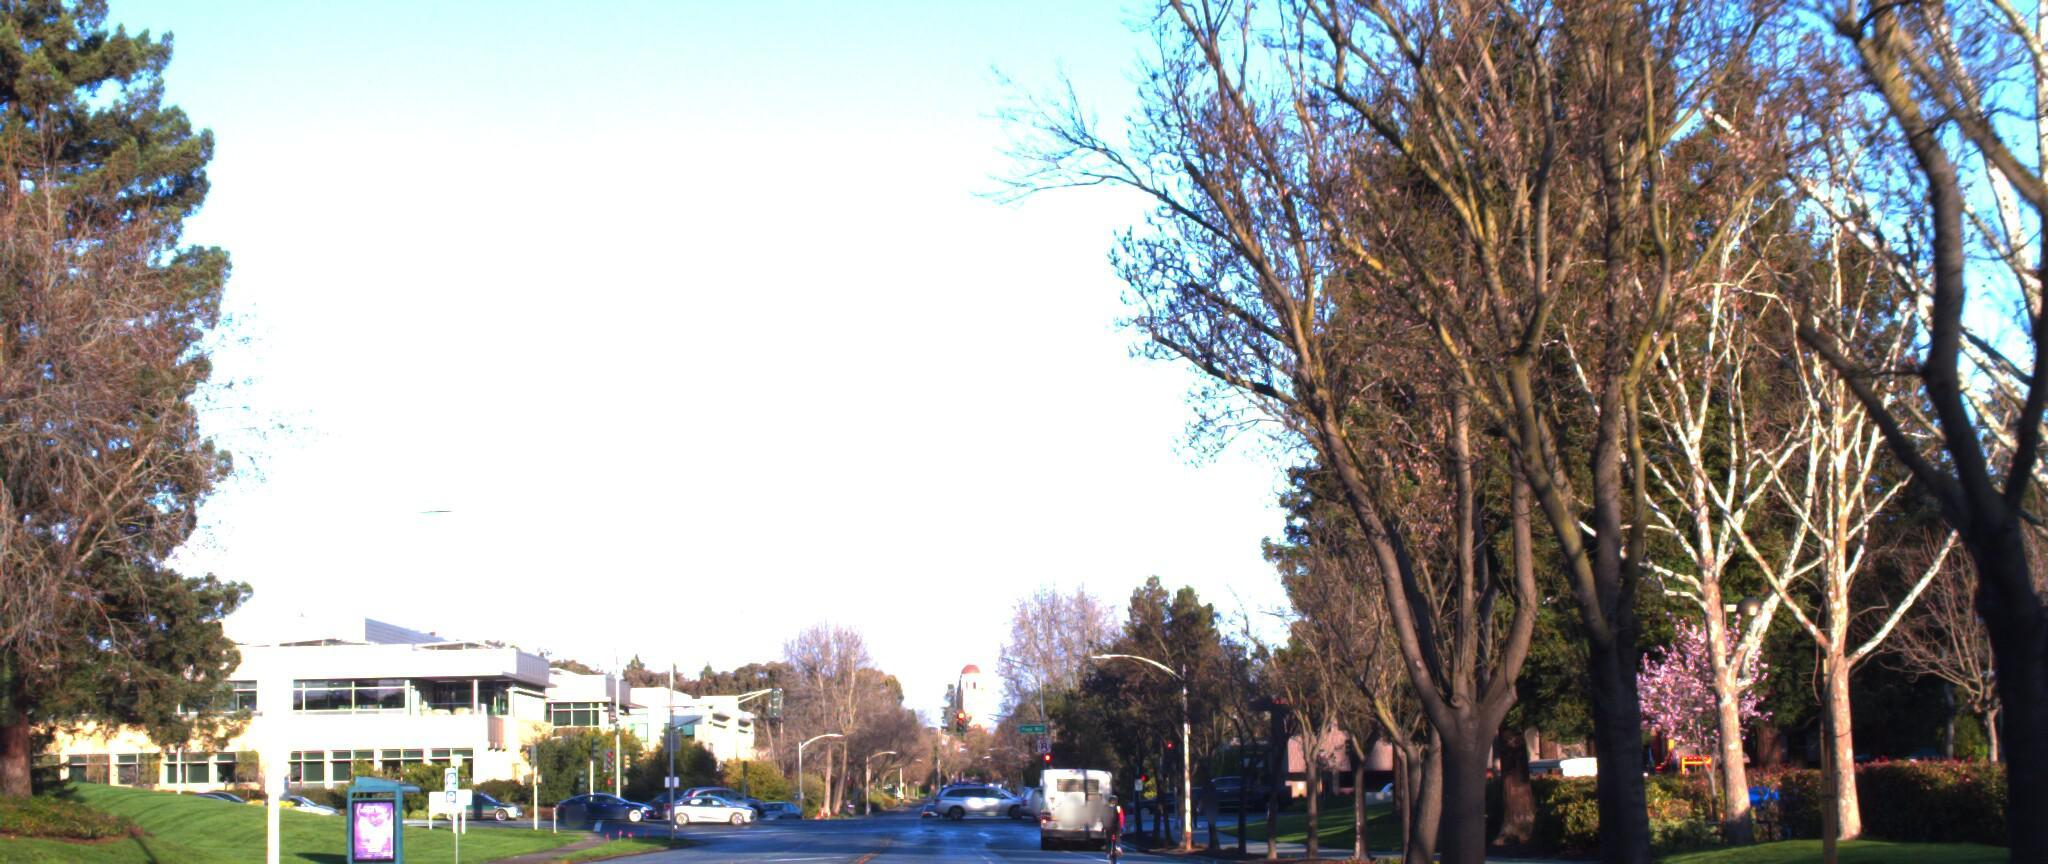other_vehicle: (1608, 651, 1720, 837)
